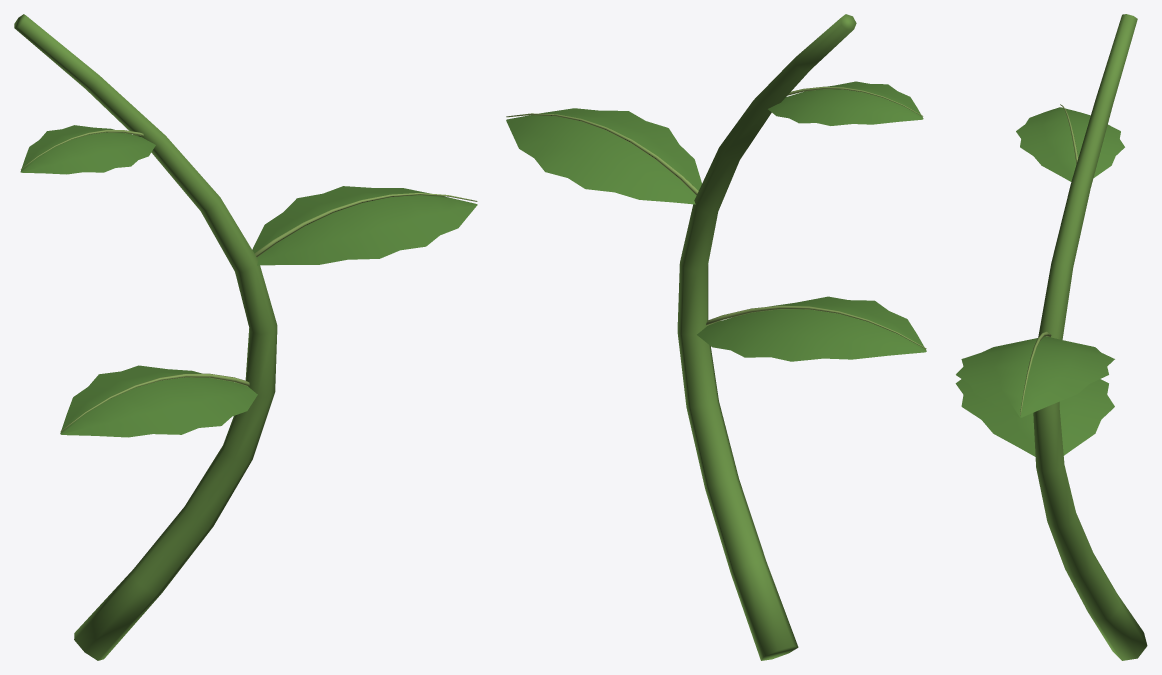
Rendered from sunflower-test-leaves-3.glb.
3 renders of one model, left to right at view 1: azimuth 30°, elevation 25°; view 2: azimuth 150°, elevation 25°; view 3: azimuth 270°, elevation 25°, orthographic. The views are drawn at different scales.
Visible parts, largest first — view 1: Curved tapered stem; view 2: Curved tapered stem; view 3: Curved tapered stem.
Boxes of the visible parts, box(x1,y1,x2,y2) form: Curved tapered stem: box(14, 14, 477, 660); Curved tapered stem: box(506, 14, 926, 660); Curved tapered stem: box(955, 14, 1147, 660).
Size of the model in its own units: 0.2227 by 0.3229 by 0.0917.
